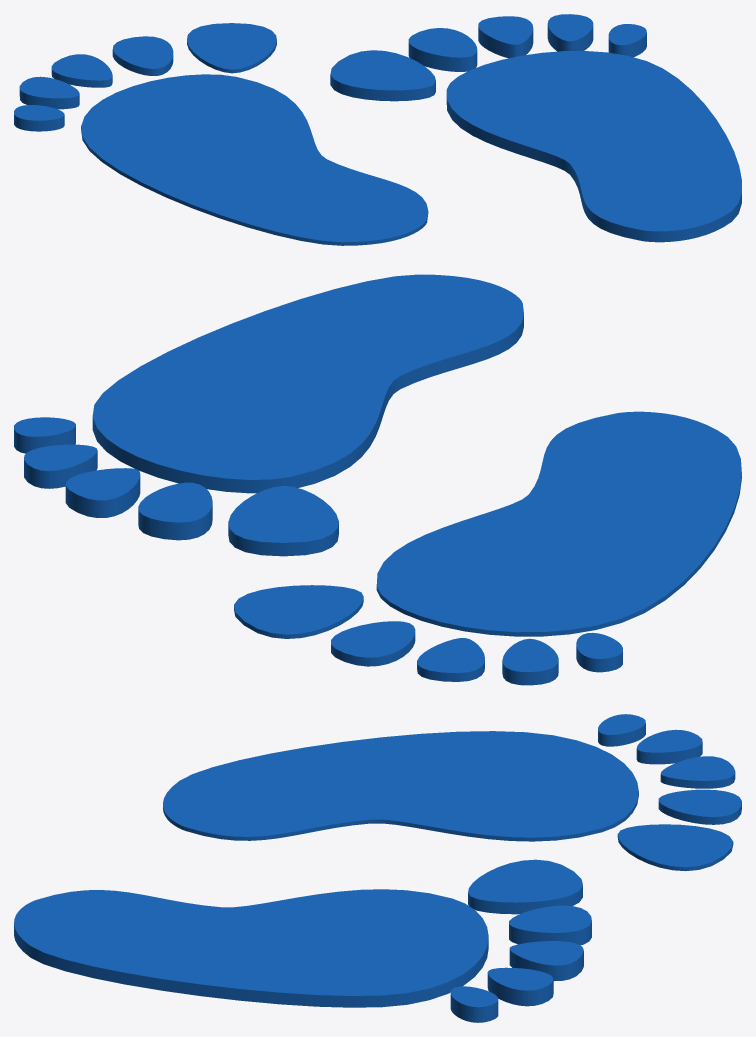
Rendered from emoji_u1f463.glb.
3 renders of one model, top to bottom at view 1: azimuth 30°, elevation 25°; view 2: azimuth 150°, elevation 25°; view 3: azimuth 270°, elevation 25°, orthographic. The views are drawn at different scales.
Visible parts, largest first — view 1: emoji_u1f463; view 2: emoji_u1f463; view 3: emoji_u1f463.
Part boxes in pixels (left/top/right/bottom): emoji_u1f463: left=14, top=14, right=741, bottom=245; emoji_u1f463: left=14, top=274, right=741, bottom=685; emoji_u1f463: left=14, top=714, right=741, bottom=1022.
Bounding box in the file's own units: 0.0324 × 0.0008 × 0.0338.
